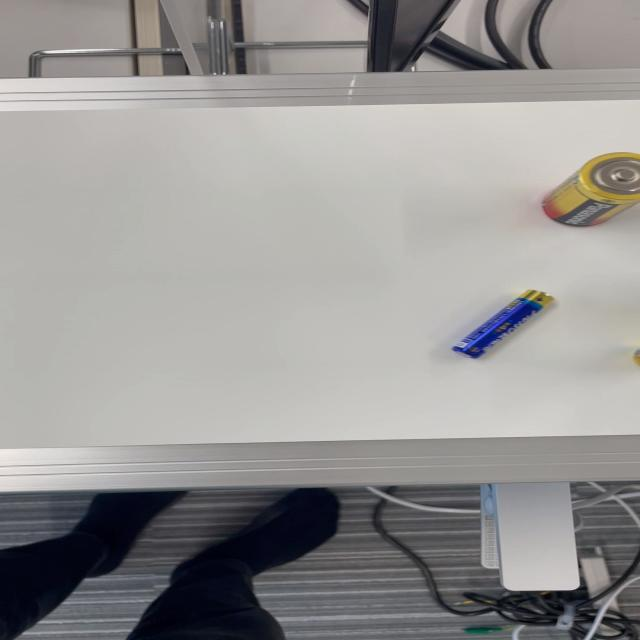AA: (445, 287, 556, 360)
